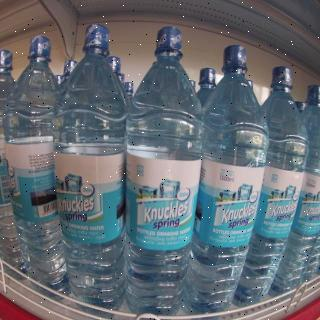Plastic-bottle: (125, 17, 207, 320), (50, 21, 130, 320), (187, 39, 269, 320), (2, 35, 75, 301), (239, 62, 309, 317)
